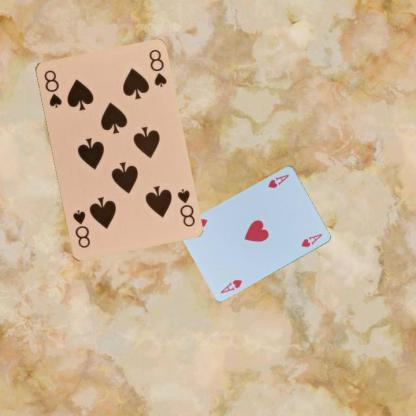8s: (41, 67, 63, 109), (174, 186, 196, 228)
Ah: (218, 276, 243, 294), (265, 172, 290, 189)
